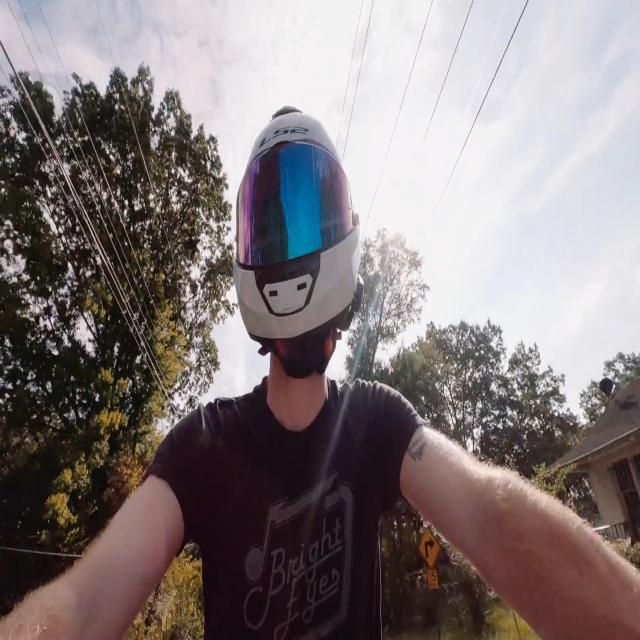Helmet_Wearer: (226, 104, 366, 422)
Person: (4, 105, 599, 640)
